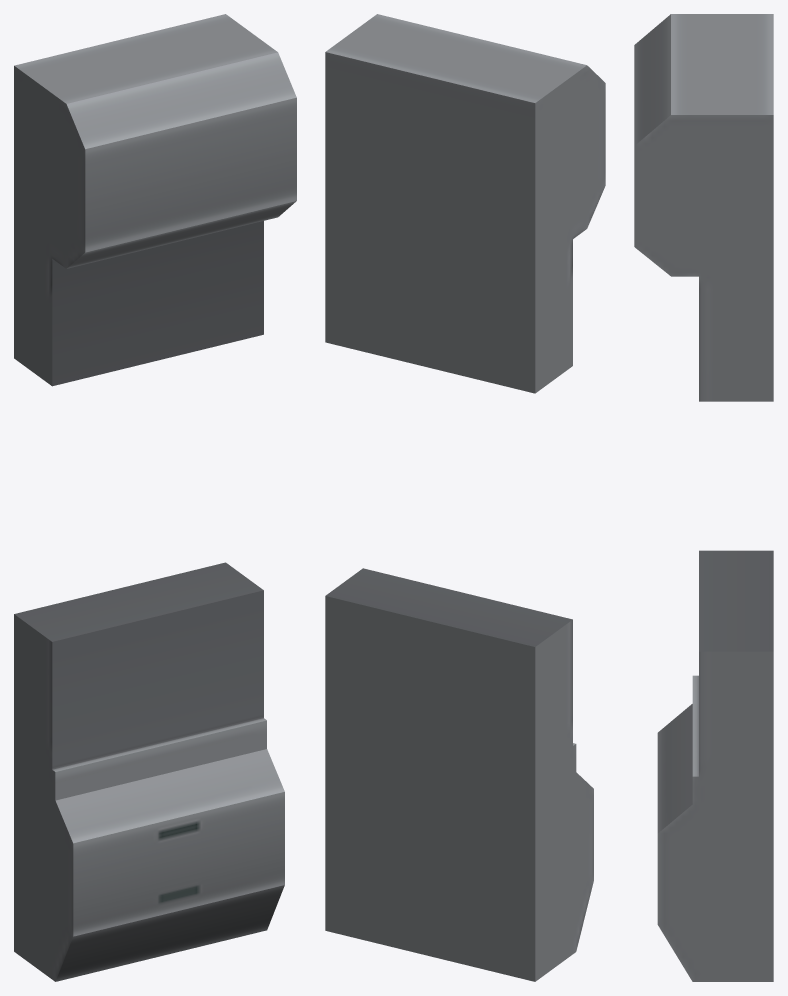
Rendered from SM_Lounge_Wall_02.fbx.
3 renders of one model, left to right at view 1: azimuth 30°, elevation 25°; view 2: azimuth 150°, elevation 25°; view 3: azimuth 270°, elevation 25°, orthographic. The views are drawn at different scales.
Visible parts, largest first — view 1: SM_Lounge_Wall_02; view 2: SM_Lounge_Wall_02; view 3: SM_Lounge_Wall_02.
Part boxes in pixels (box(x1,y1,x2,y2)): SM_Lounge_Wall_02: box(14, 14, 296, 981); SM_Lounge_Wall_02: box(325, 14, 605, 981); SM_Lounge_Wall_02: box(634, 14, 773, 981).
Size of the model in its own units: 70 by 280 by 40.69.
Materials: 1 (1 with a texture image).
